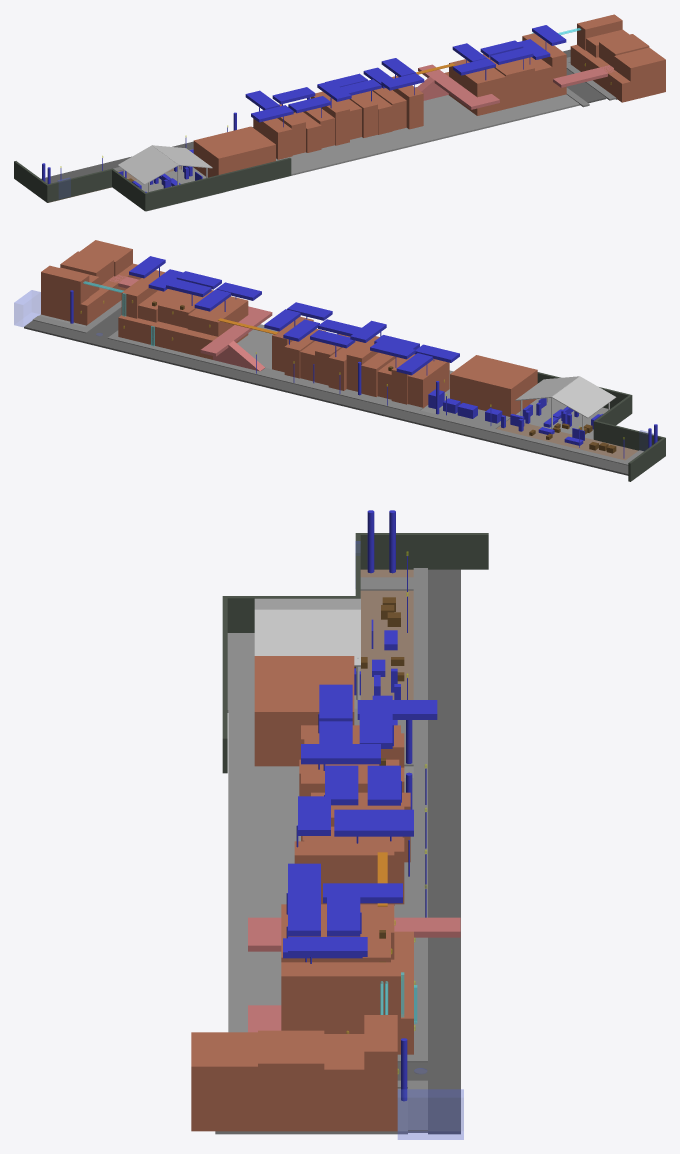
Rendered from City_MiddleClass.obj.
3 views of the same model, one above another, from view 1: azimuth 30°, elevation 25°; view 2: azimuth 150°, elevation 25°; view 3: azimuth 270°, elevation 25° (orthographic). The views are drawn at different scales.
Parts seen in each view (by area): view 1: Floor_Buildings_2_18, Building_2Story_Residence_1_151, CityWalls_4_50, Building_FirstFloor_Bar_138, Building_GroundFloor_77, Roof_Shed_2_148, CityWalls_1_103, Building_FirstFloor_Bar_16, Building_Storefront_2Story_Residence_1_40, Bridge_64, Building_FirstFloor_Restaurant_116, Building_FirstFloor_BookStore_52 (+37 smaller); view 2: Road_1_69, Building_2Story_Residence_1_151, Pavement_1_37, Building_FirstFloor_Bar_16, Building_FirstFloor_BookStore_52, Roof_Shed_2_148, Building_Storefront_2Story_Residence_1_40, Floor_Stalls_102, CityWalls_1_103, Building_GroundFloor_137, Floor_Buildings_2_18, Building_FirstFloor_Restaurant_99 (+43 smaller); view 3: Road_1_69, Floor_Buildings_2_18, Building_2Story_Residence_1_151, Building_FirstFloor_BookStore_153, Pavement_1_37, Roof_Shed_1_112, Floor_Stalls_102, CityWalls_3_113, Building_FirstFloor_Restaurant_116, Building_FirstFloor_Bar_138, Building_Storefront_2Story_Residence_1 (9)_161, Exit_Security_HighClass_175 (+31 smaller).
Boxes of the visible parts, x1,y1,x2,y2 form: Floor_Buildings_2_18: (238, 94, 579, 188); Building_2Story_Residence_1_151: (193, 126, 275, 177); CityWalls_4_50: (146, 157, 291, 210); Building_FirstFloor_Bar_138: (614, 47, 665, 81); Building_GroundFloor_77: (605, 69, 665, 102); Roof_Shed_2_148: (118, 145, 178, 184); CityWalls_1_103: (48, 168, 113, 202); Building_FirstFloor_Bar_16: (449, 59, 505, 97); Building_Storefront_2Story_Residence_1_40: (253, 118, 292, 159); Bridge_64: (418, 64, 485, 109); Building_FirstFloor_Restaurant_116: (599, 34, 649, 67); Building_FirstFloor_BookStore_52: (577, 14, 622, 50); Road_1_69: (24, 320, 628, 475); Building_2Story_Residence_1_151: (450, 355, 537, 416); Pavement_1_37: (107, 335, 629, 465); Building_FirstFloor_Bar_16: (187, 296, 248, 336); Building_FirstFloor_BookStore_52: (41, 265, 89, 303); Roof_Shed_2_148: (551, 376, 616, 418); Building_Storefront_2Story_Residence_1_40: (407, 358, 449, 408); Floor_Stalls_102: (496, 419, 637, 460); CityWalls_1_103: (593, 420, 663, 451); Building_GroundFloor_137: (41, 294, 96, 325); Floor_Buildings_2_18: (237, 324, 453, 413); Building_FirstFloor_Restaurant_99: (158, 290, 213, 328); Road_1_69: (428, 569, 460, 1134); Floor_Buildings_2_18: (228, 710, 413, 1032); Building_2Story_Residence_1_151: (254, 656, 354, 766); Building_FirstFloor_BookStore_153: (281, 962, 400, 1018); Pavement_1_37: (413, 568, 427, 1062); Roof_Shed_1_112: (254, 609, 360, 666); Floor_Stalls_102: (360, 569, 413, 699); CityWalls_3_113: (355, 533, 488, 569); Building_FirstFloor_Restaurant_116: (258, 1030, 324, 1093); Building_FirstFloor_Bar_138: (191, 1032, 257, 1093); Building_Storefront_2Story_Residence_1 (9)_161: (294, 841, 394, 904); Exit_Security_HighClass_175: (398, 1089, 463, 1139).
Size of the model in its own units: 204 by 20.05 by 44.69.
